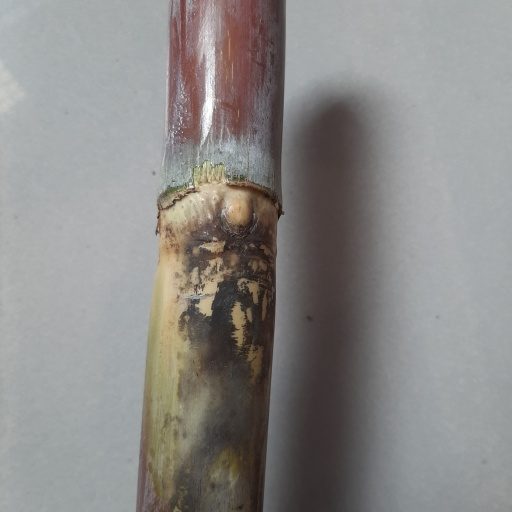Bud: (224, 194, 254, 228)
